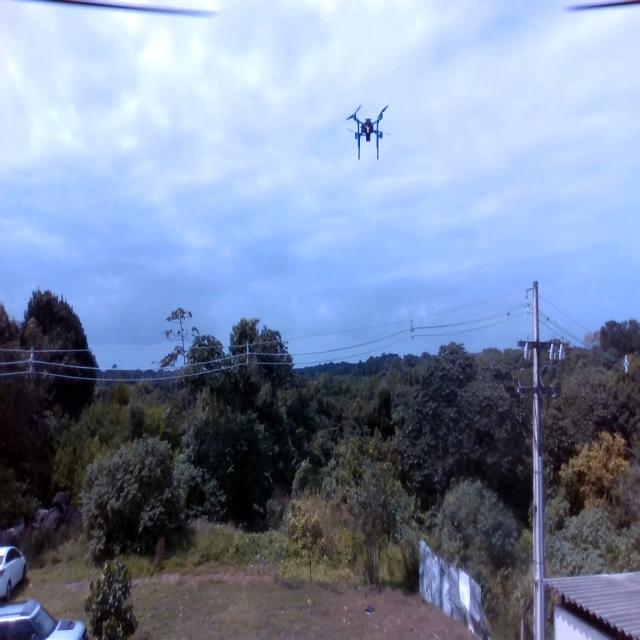-uav-: (336, 90, 397, 168)
